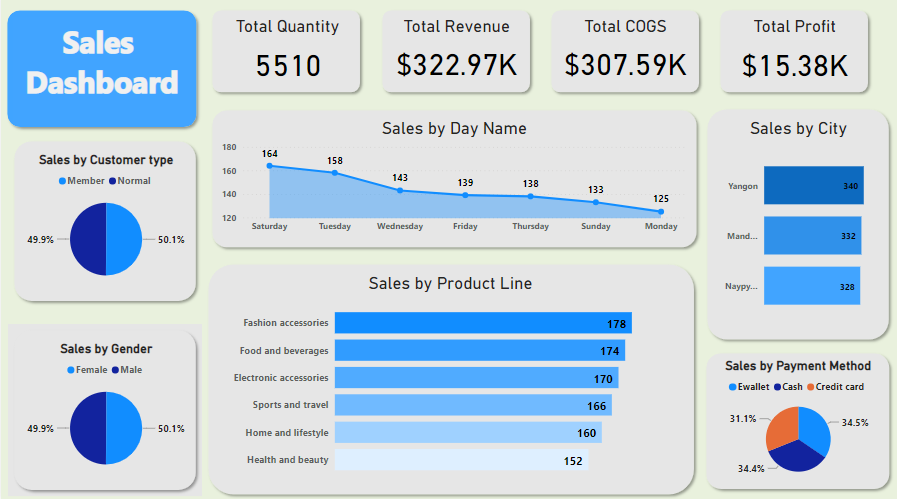

The dashboard page shown, as its layout file describes it:
{"tool":"powerbi","page":{"name":"Sales","canvas":[1280,720],"ordinal":0},"visuals":[{"type":"shape","box":[0,15.1,285.6,183.1],"z":0,"group":"g16"},{"type":"group","id":"g1","title":"Group 1","box":[290.6,15.1,226.8,134.4],"z":0},{"type":"shape","box":[290.6,15.1,226.8,134.4],"z":0,"group":"g1"},{"type":"shape","box":[530.8,15.1,226.8,134.4],"z":0,"group":"g3"},{"type":"shape","box":[771,15.1,226.8,134.4],"z":0,"group":"g4"},{"type":"shape","box":[1011.2,15.1,226.8,134.4],"z":0,"group":"g5"},{"type":"shape","box":[992.8,156.2,275.5,344.4],"z":0,"group":"g11"},{"type":"shape","box":[10.1,201.6,275.5,243.6],"z":0,"group":"g7"},{"type":"shape","box":[285.6,376.3,705.5,344.4],"z":0,"group":"g12"},{"type":"shape","box":[10.1,468.7,275.5,243.6],"z":0,"group":"g8"},{"type":"group","id":"g2","title":"Group 2","box":[0,15.1,285.6,183.1],"z":1000},{"type":"card","title":"Total Quantity","fields":{"Values":["Measures Table.Total Quantity Sold"]},"box":[307,32,197,103],"z":1000,"group":"g1"},{"type":"card","title":"Total Revenue","fields":{"Values":["Measures Table.Total Revenue"]},"box":[548,32,195,101],"z":1000,"group":"g3"},{"type":"card","title":"Total COGS","fields":{"Values":["Measures Table.Total COGS"]},"box":[788,32,194,102],"z":1000,"group":"g4"},{"type":"card","title":"Total Profit","fields":{"Values":["Measures Table.Total Gross Profit"]},"box":[1028,32,195,104],"z":1000,"group":"g5"},{"type":"textbox","box":[17.3,34,252.7,152.9],"z":1000,"group":"g16"},{"type":"group","id":"g3","title":"Group 1","box":[530.8,15.1,226.8,134.4],"z":2000},{"type":"group","id":"g4","title":"Group 1","box":[771,15.1,226.8,134.4],"z":3000},{"type":"group","id":"g5","title":"Group 1","box":[1011.2,15.1,226.8,134.4],"z":4000},{"type":"shape","box":[290.6,157.9,703.8,211.7],"z":5000,"group":"g13"},{"type":"group","id":"g6","title":"Group 3","box":[10.1,201.6,275.5,243.6],"z":5000},{"type":"group","id":"g7","title":"Group 1","box":[10.1,201.6,275.5,243.6],"z":5000,"group":"g6"},{"type":"group","id":"g8","title":"Group 1","box":[10.1,468.7,275.5,243.6],"z":5000,"group":"g9"},{"type":"group","id":"g9","title":"Group 3","box":[10.1,468.7,275.5,243.6],"z":6000},{"type":"group","id":"g10","title":"Group 4","box":[992.8,156.2,275.5,344.4],"z":7000},{"type":"group","id":"g11","title":"Group 1","box":[992.8,156.2,275.5,344.4],"z":7000,"group":"g10"},{"type":"group","id":"g12","title":"Group 1","box":[285.6,376.3,705.5,344.4],"z":7000,"group":"g15"},{"type":"group","id":"g13","title":"Group 5","box":[290.6,157.9,703.8,211.7],"z":8000},{"type":"shape","box":[991.1,502.3,277.2,210],"z":8000,"group":"g14"},{"type":"group","id":"g14","title":"Group 6","box":[991.1,502.3,277.2,210],"z":9000},{"type":"group","id":"g15","title":"Group 4","box":[285.6,376.3,705.5,344.4],"z":10000},{"type":"group","id":"g16","title":"Group 7","box":[0,15.1,285.6,183.1],"z":10001,"group":"g2"},{"type":"areaChart","title":"Sales by Day Name","fields":{"Y":["Measures Table.Total Sales"],"Category":["calendar.Day Name"]},"box":[307.4,178.1,670.2,171.3],"z":11000,"group":"g13"},{"type":"barChart","title":"Sales by City","fields":{"Y":["Measures Table.Total Sales"],"Category":["sales.City"]},"box":[1007.9,178,245.2,300.7],"z":14000,"group":"g10"},{"type":"barChart","title":"Sales by Product Line","fields":{"Y":["Measures Table.Total Sales"],"Category":["sales.Product line"]},"box":[324.3,398.1,628.1,300.7],"z":14000,"group":"g15"},{"type":"pieChart","title":"Sales by Customer type","fields":{"Category":["sales.Customer type"],"Y":["Measures Table.Total Sales"]},"box":[33.6,225.1,230.1,196.5],"z":14001,"group":"g6"},{"type":"pieChart","title":"Sales by Gender","fields":{"Category":["sales.Gender"],"Y":["Measures Table.Total Sales"]},"box":[33.6,492.2,230.1,196.5],"z":14001,"group":"g9"},{"type":"pieChart","title":"Sales by Payment Method","fields":{"Y":["Measures Table.Total Sales"],"Category":["sales.Payment"]},"box":[1011.3,517.4,238.5,179.7],"z":15000,"group":"g14"}]}

Visuals, with their boxes in screenshot pixels (x1, y1, x2, y2), scaled from the page's 1280x720 canvas onto the 897x499 screenshot:
shape: 0/10/200/137
"Group 1" group: 204/10/363/104
shape: 204/10/363/104
shape: 372/10/531/104
shape: 540/10/699/104
shape: 709/10/868/104
shape: 696/108/889/347
shape: 7/140/200/309
shape: 200/261/695/498
shape: 7/325/200/494
"Group 2" group: 0/10/200/137
"Total Quantity" card: 215/22/353/94
"Total Revenue" card: 384/22/521/92
"Total COGS" card: 552/22/688/93
"Total Profit" card: 720/22/857/94
textbox: 12/24/189/130
"Group 1" group: 372/10/531/104
"Group 1" group: 540/10/699/104
"Group 1" group: 709/10/868/104
shape: 204/109/697/256
"Group 3" group: 7/140/200/309
"Group 1" group: 7/140/200/309
"Group 1" group: 7/325/200/494
"Group 3" group: 7/325/200/494
"Group 4" group: 696/108/889/347
"Group 1" group: 696/108/889/347
"Group 1" group: 200/261/695/498
"Group 5" group: 204/109/697/256
shape: 695/348/889/494
"Group 6" group: 695/348/889/494
"Group 4" group: 200/261/695/498
"Group 7" group: 0/10/200/137
"Sales by Day Name" areaChart: 215/123/685/242
"Sales by City" barChart: 706/123/878/332
"Sales by Product Line" barChart: 227/276/667/484
"Sales by Customer type" pieChart: 24/156/185/292
"Sales by Gender" pieChart: 24/341/185/477
"Sales by Payment Method" pieChart: 709/359/876/483
